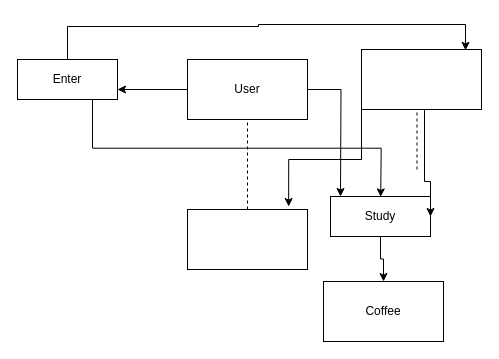
The diagram is 499 pixels wide and 359 high, and some of its shapes have lost their labels. Here are the shapes that lost their labels. From the top down, the box of each, then its label:
(360, 48, 482, 110): Guest
(186, 208, 308, 270): Code
